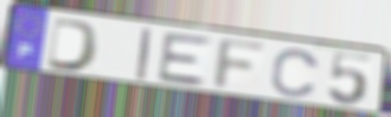5: (325, 49, 378, 108)
C: (268, 47, 322, 99)
D: (44, 16, 103, 74)
E: (155, 32, 216, 88)
F: (208, 37, 272, 93)
I: (135, 26, 155, 83)
